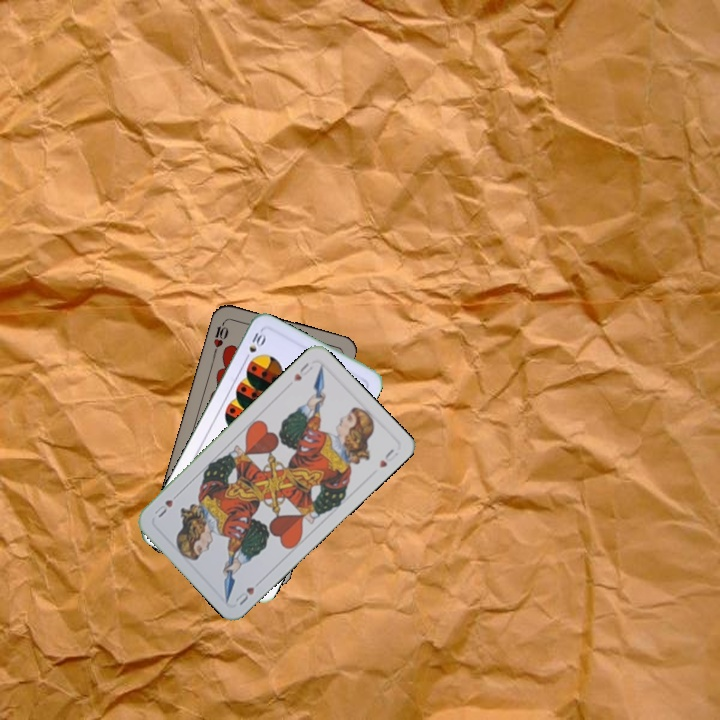H10: (209, 317, 231, 356)
HU: (289, 359, 317, 384), (231, 583, 257, 608)
S10: (240, 327, 268, 364)
